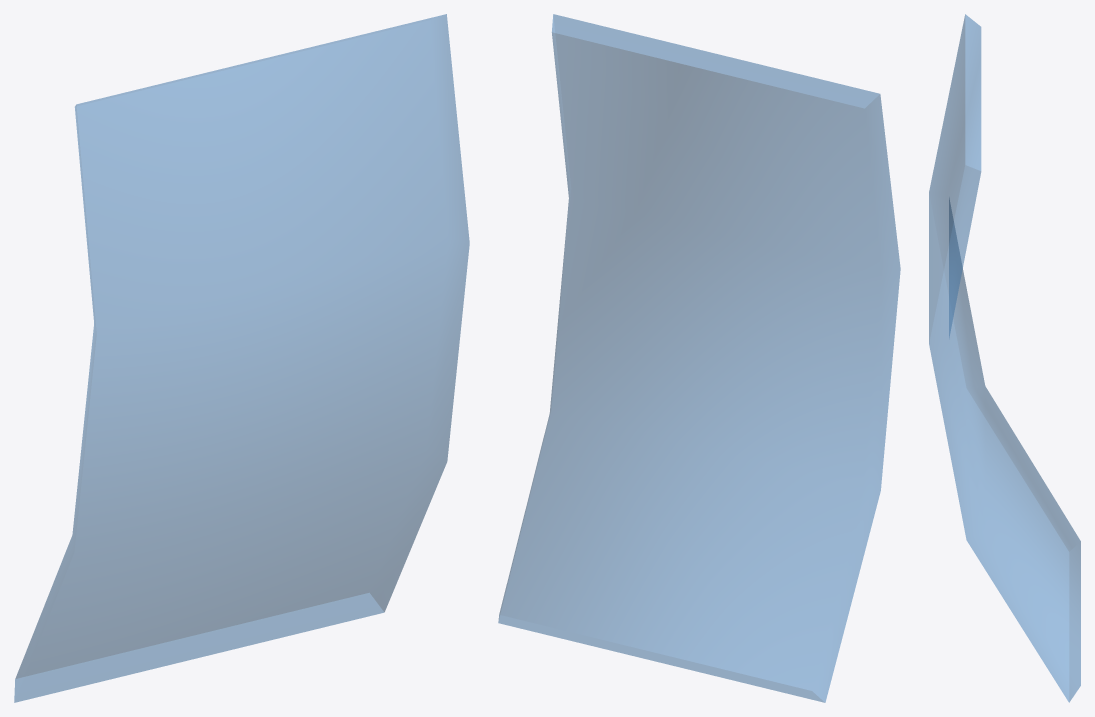
Rendered from Glass_02.fbx.
The picture shows the model from 3 angles, left to right: view 1: azimuth 30°, elevation 25°; view 2: azimuth 150°, elevation 25°; view 3: azimuth 270°, elevation 25°; orthographic projection. The views are drawn at different scales.
Parts seen in each view (by area): view 1: Glass.001; view 2: Glass.001; view 3: Glass.001.
Part boxes in pixels (x1=…): Glass.001: x1=14, y1=14, x2=469, y2=702; Glass.001: x1=498, y1=14, x2=900, y2=702; Glass.001: x1=929, y1=14, x2=1080, y2=702.
Size of the model in its own units: 2.93 by 4.84 by 1.24.
